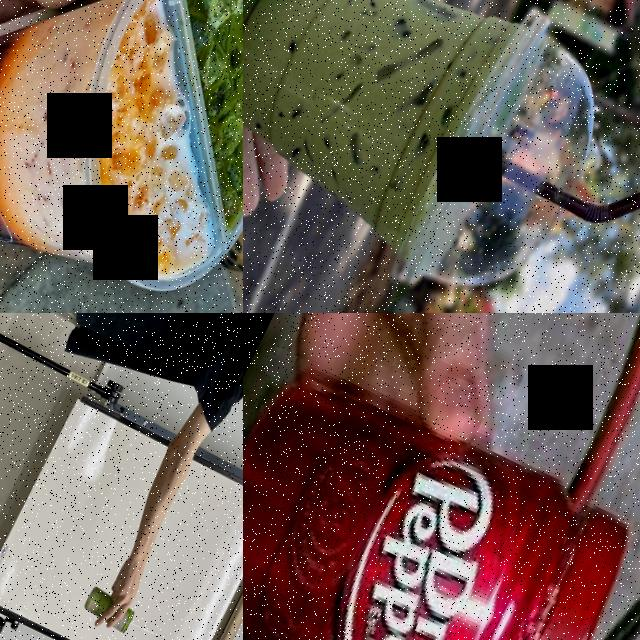can: (243, 340, 640, 640), (78, 584, 138, 634)
cup: (243, 0, 635, 313), (0, 0, 243, 313)
